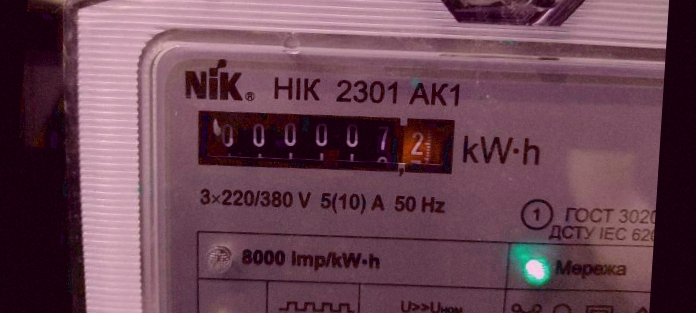0: (216, 119, 235, 147), (311, 119, 329, 147), (280, 118, 297, 147), (249, 119, 266, 147), (343, 120, 359, 149)
2: (407, 129, 425, 156)
7: (373, 121, 390, 152)
screen: (182, 96, 466, 186)
